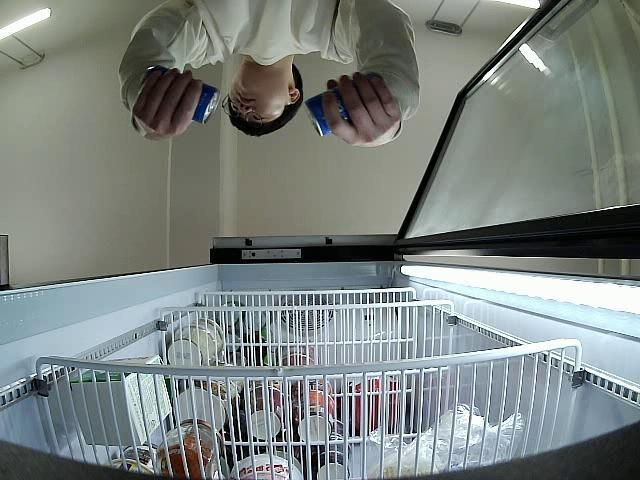15_letsbe: (142, 65, 218, 124), (304, 88, 350, 138)
